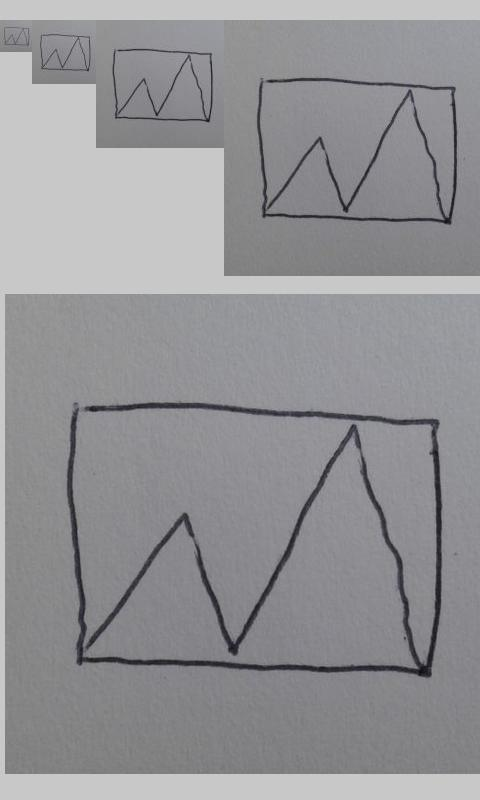image_view: (63, 398, 445, 685), (255, 76, 458, 228), (112, 48, 213, 123), (39, 33, 91, 72), (3, 26, 30, 47)
